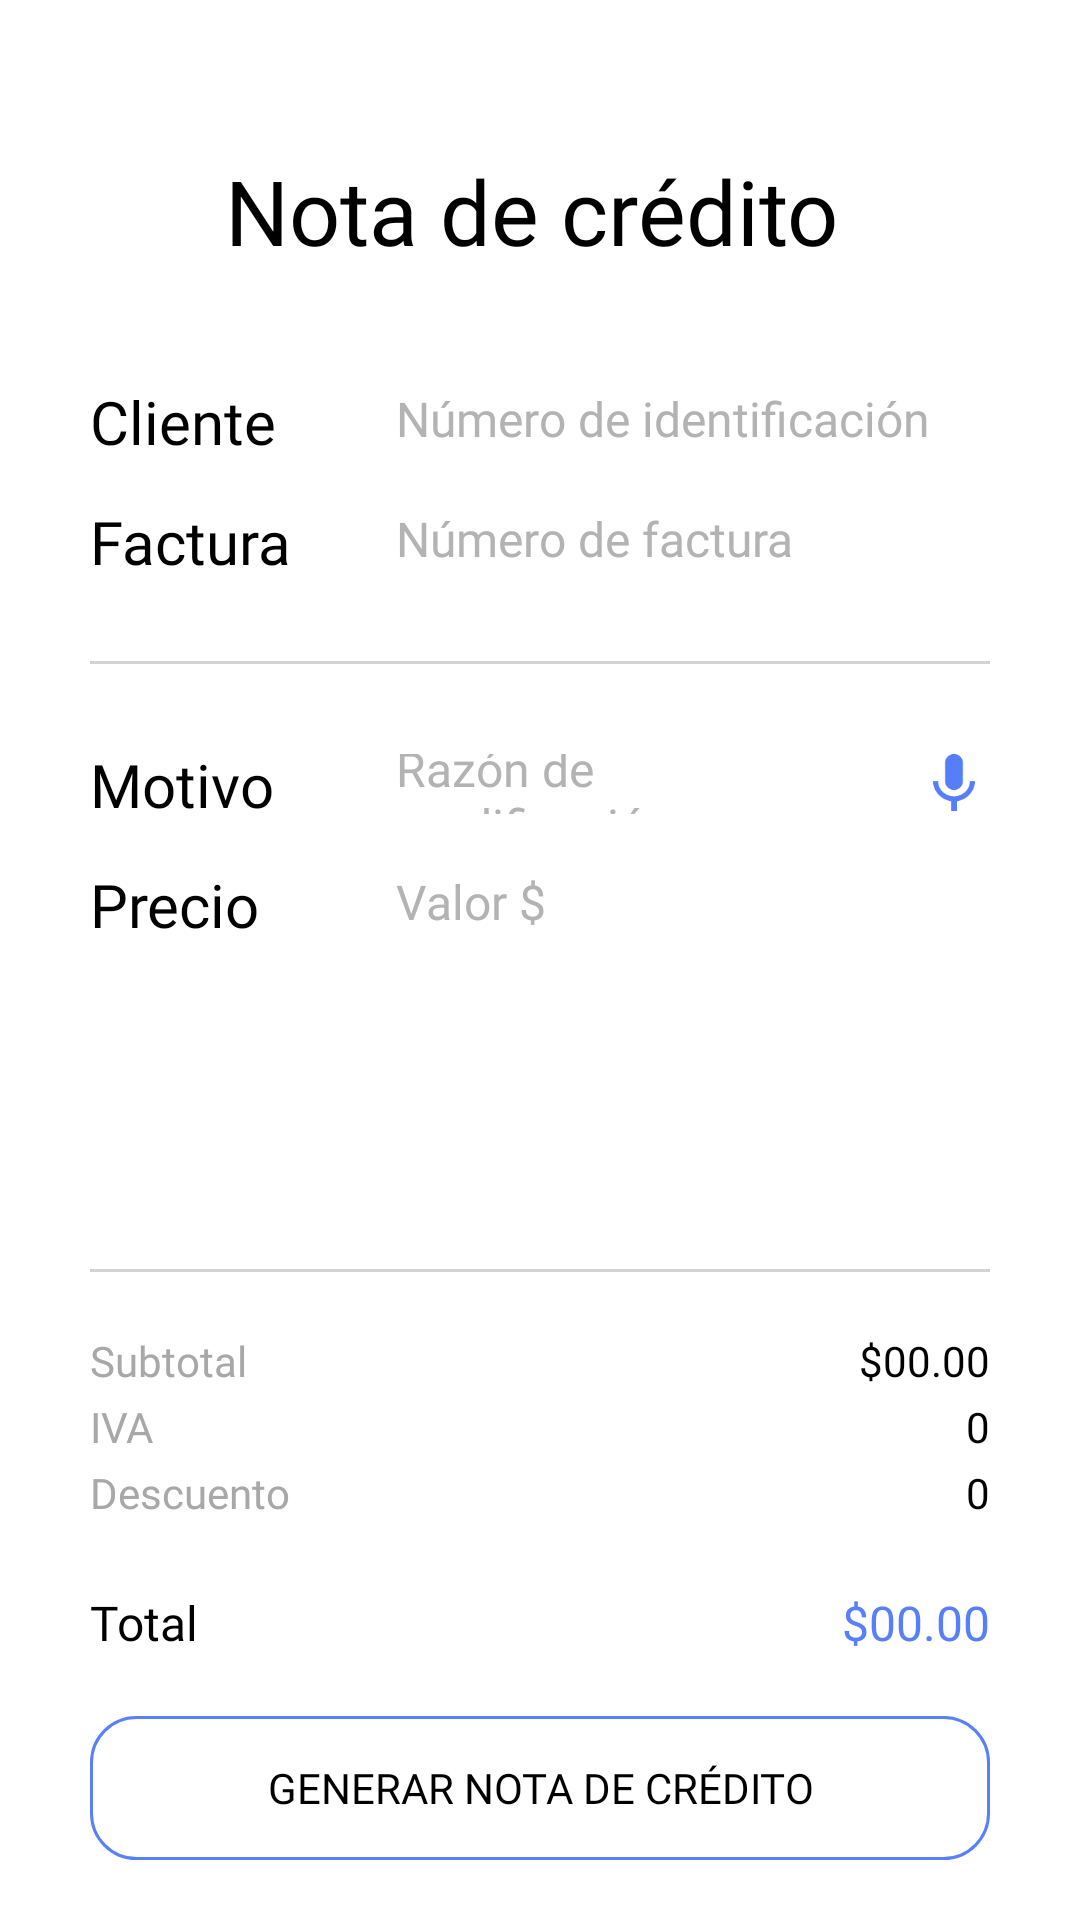

Screen size 1080px×1920px. Icon name, then its box in pixels as bbox=(x1, y1, x2, y2):
mic: bbox=(933, 754, 975, 811)
